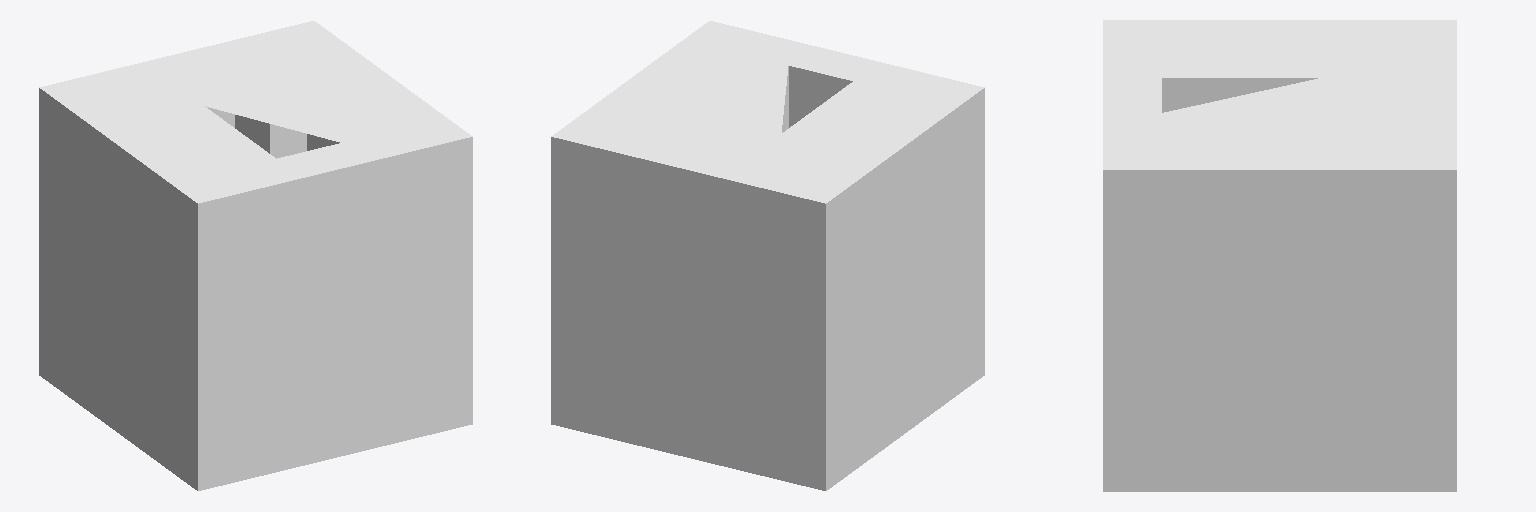
The robot description file, URDF, robot "Cross_cube_bottle":
<?xml version="1.0" ?>
<robot name="Cross_cube_bottle">
  <link name="baseLink">
    <contact>
    	<friction_anchor/>
    	   <lateral_friction value="1.0"/>
    </contact>
    <inertial>
      <origin rpy="0 0 0" xyz="0 0 0"/>
       <!-- mass controls penetration -->
       <mass value=".5"/>
       <inertia ixx="1e-4" ixy="0" ixz="0" iyy="1e-4" iyz="0" izz="1e-4"/>
    </inertial>
    <visual>
      <origin rpy="0 0 0" xyz="0 0 0"/>
      <geometry>
        <mesh filename="Cross_cube_bottle.obj" scale="0.6 0.6 0.6"/>
      </geometry>
       <material name="white">
        <color rgba="1 1 1 1"/>
      </material>
    </visual>
    <collision>
      <origin rpy="0 0 0" xyz="0 0 0"/>
      <geometry>
        <mesh filename="Cross_cube_bottle2.obj" scale="0.6 0.6 0.6"/>
      </geometry>
      <sdf resolution="300"/>
    </collision>
  </link>
</robot>

--- Facts derived from the render (not from the file) ---
Views: 3 orthographic renders of the robot side by side, from view 1: azimuth 30°, elevation 25°; view 2: azimuth 150°, elevation 25°; view 3: azimuth 270°, elevation 25°.
Model Cross_cube_bottle with 1 links and 0 joints (none), rooted at baseLink, posed every joint at zero.
Links seen in each view (by area): view 1: baseLink; view 2: baseLink; view 3: baseLink.
Link boxes in pixels (box(x1,y1,x2,y2)): baseLink: box(39, 21, 472, 490); baseLink: box(551, 21, 984, 490); baseLink: box(1103, 20, 1456, 491).
Size in the robot's own frame: 0.048 by 0.048 by 0.048 metres.
1 mesh visuals loaded from 1 distinct referenced files (1 OBJ).